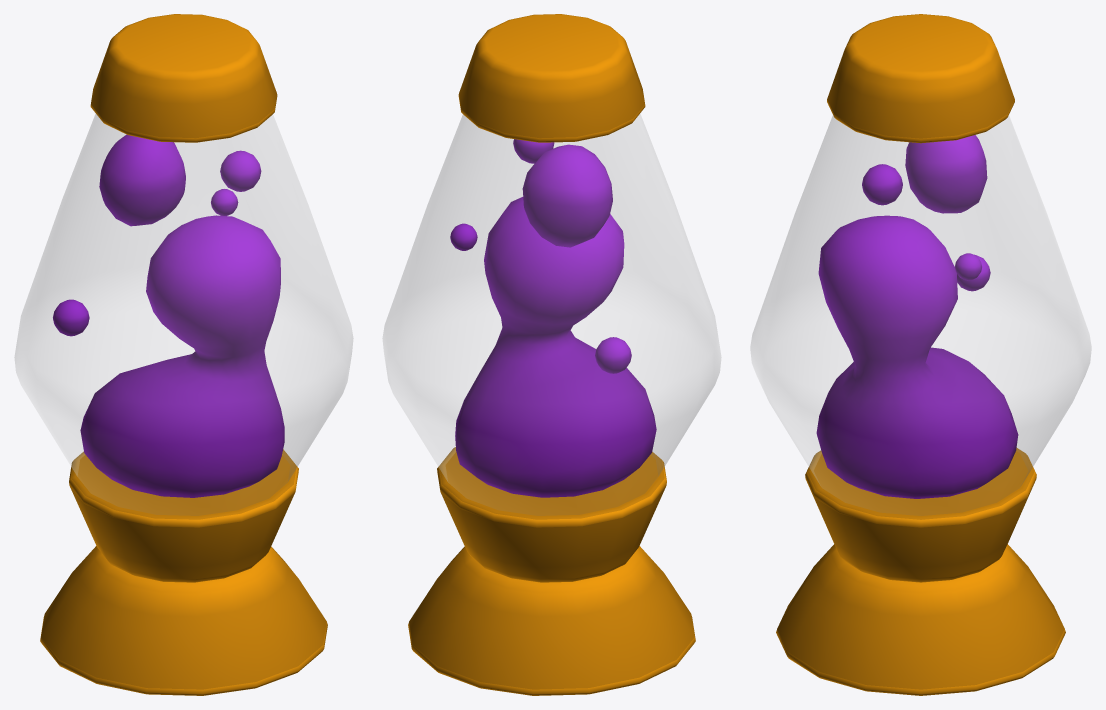
File: Lava Lamp.fbx
The picture shows the model from 3 angles, left to right: view 1: azimuth 30°, elevation 25°; view 2: azimuth 150°, elevation 25°; view 3: azimuth 270°, elevation 25°; orthographic projection.
Parts seen in each view (by area): view 1: Lava_Lamp; view 2: Lava_Lamp; view 3: Lava_Lamp.
Boxes of the visible parts, x1=… form: Lava_Lamp: x1=14, y1=14, x2=353, y2=695; Lava_Lamp: x1=382, y1=14, x2=721, y2=695; Lava_Lamp: x1=750, y1=14, x2=1091, y2=695.
Bounding box in the file's own units: 136 × 261 × 136.
